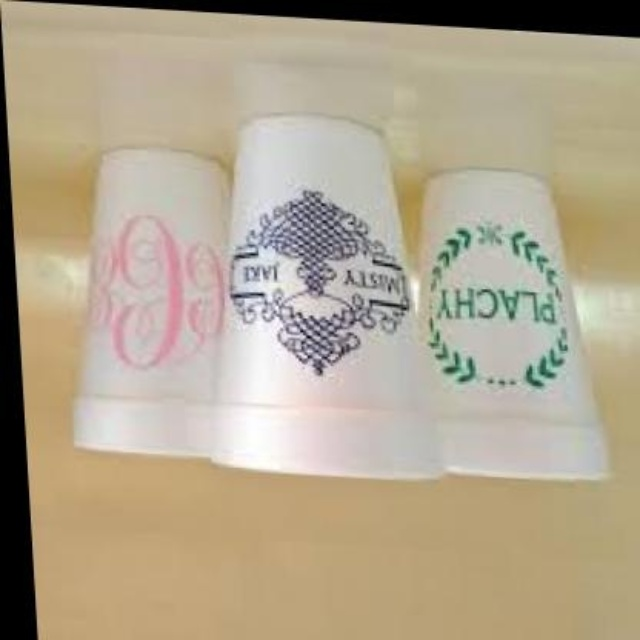trash: (75, 114, 606, 478), (212, 114, 438, 477), (420, 169, 606, 478), (75, 148, 223, 455)
